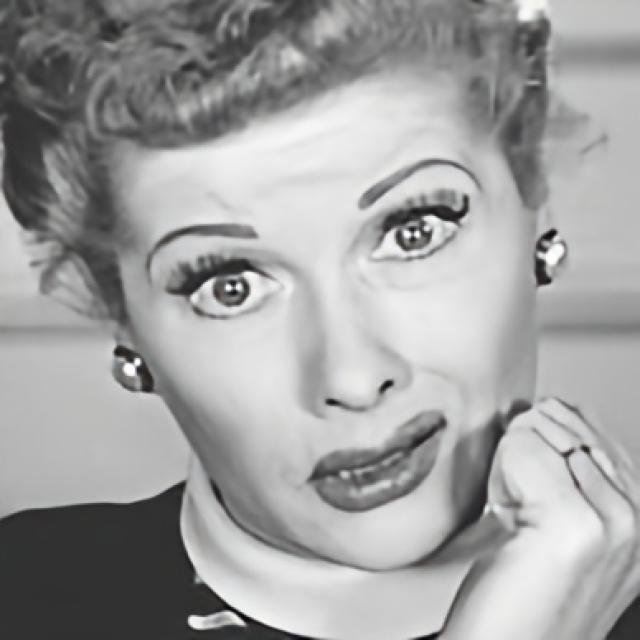fear: (102, 54, 536, 570)
